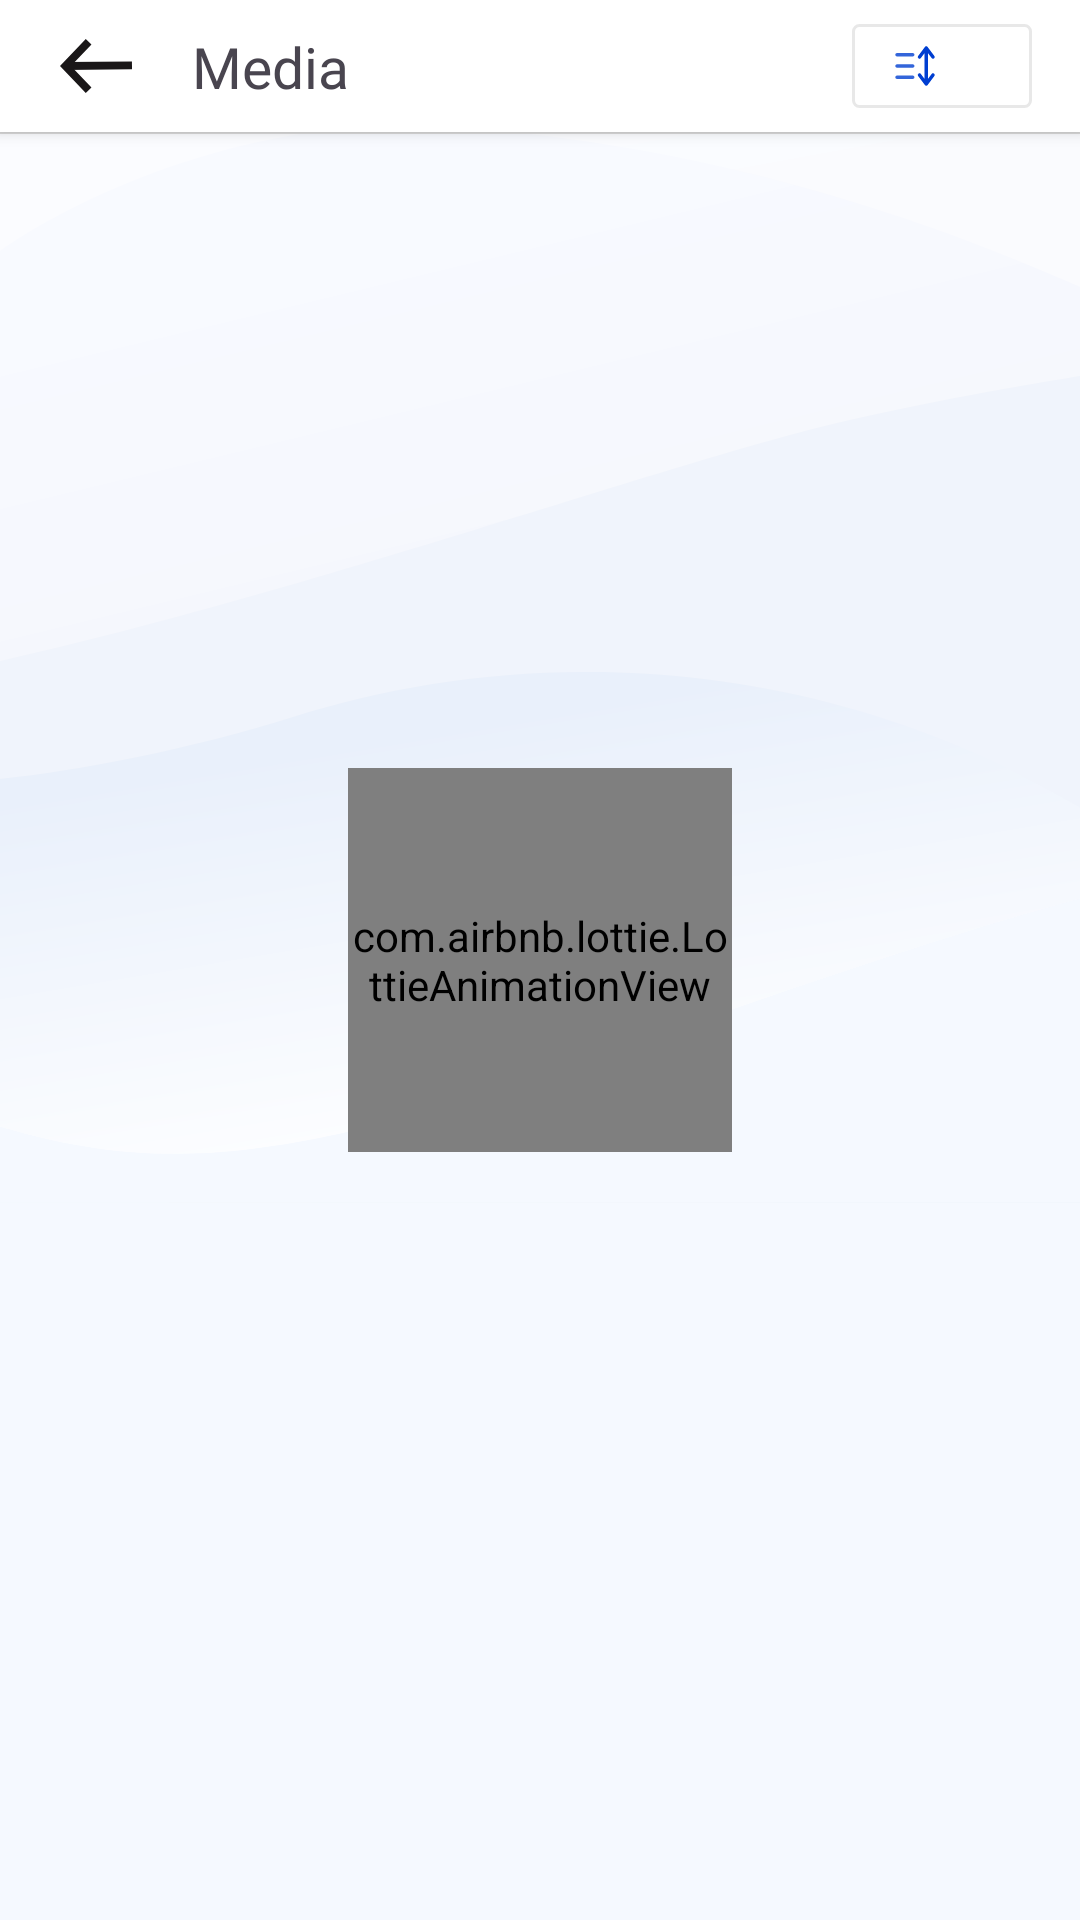

Point at icon controls on the screen. Image size 1080x1920, points as point (x, y).
back arrow: point (96, 66)
